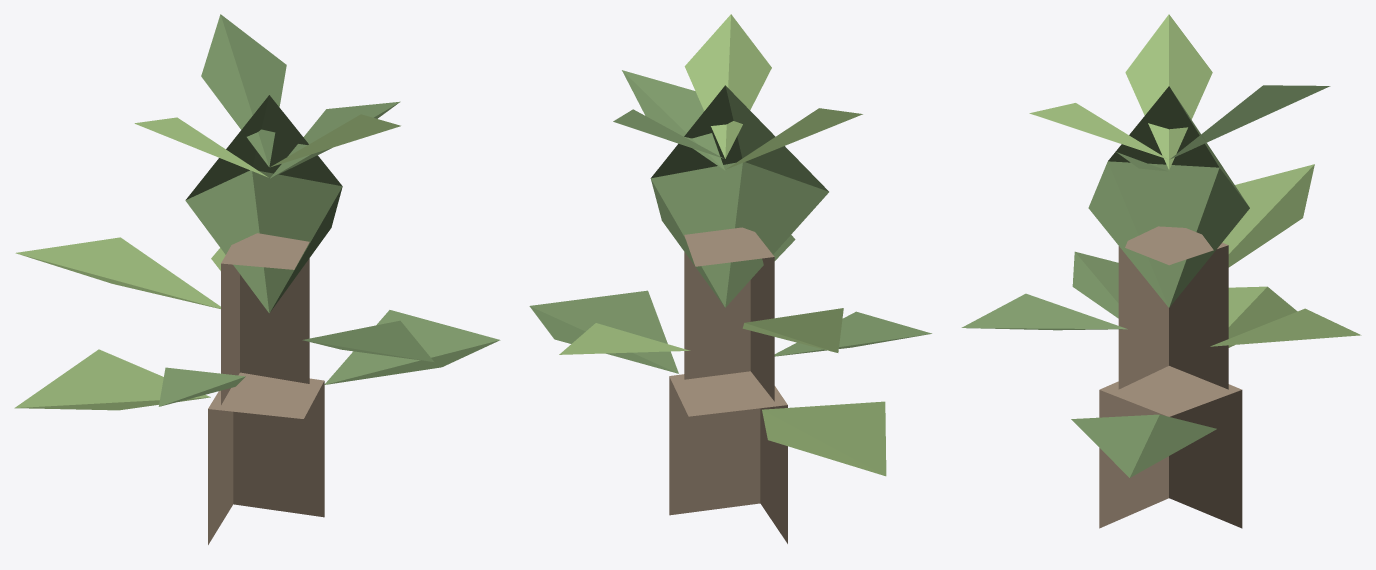
File: guan.moli@seedling__bloom.glb
3 views of the same model, side by side, from view 1: azimuth 30°, elevation 25°; view 2: azimuth 150°, elevation 25°; view 3: azimuth 270°, elevation 25° (orthographic).
Visible parts, largest first — view 1: guan.moli@seedling__bloom; view 2: guan.moli@seedling__bloom; view 3: guan.moli@seedling__bloom.
Part boxes in pixels (bbox=[...]): guan.moli@seedling__bloom: bbox=[14, 14, 500, 544]; guan.moli@seedling__bloom: bbox=[529, 14, 931, 543]; guan.moli@seedling__bloom: bbox=[961, 14, 1361, 528].
Size of the model in its own units: 0.1101 by 0.1133 by 0.0899.
